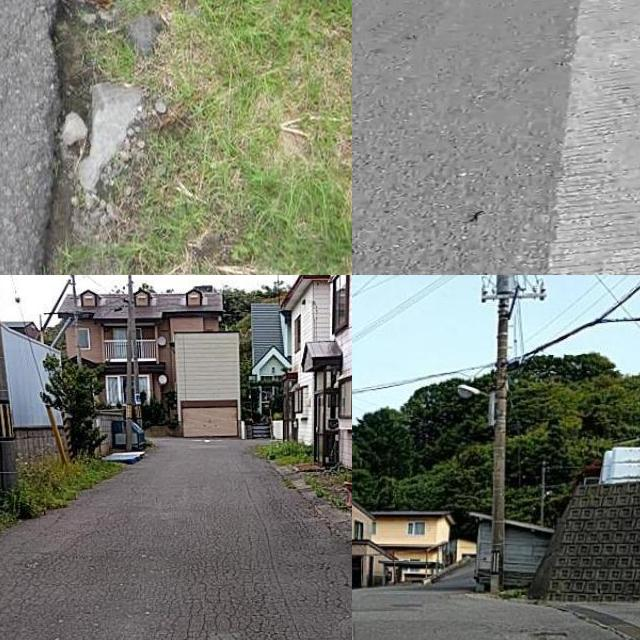Pinggir: (0, 0, 124, 275)
Retak Buaya: (168, 567, 311, 640)
Sambungan: (547, 0, 640, 275)
